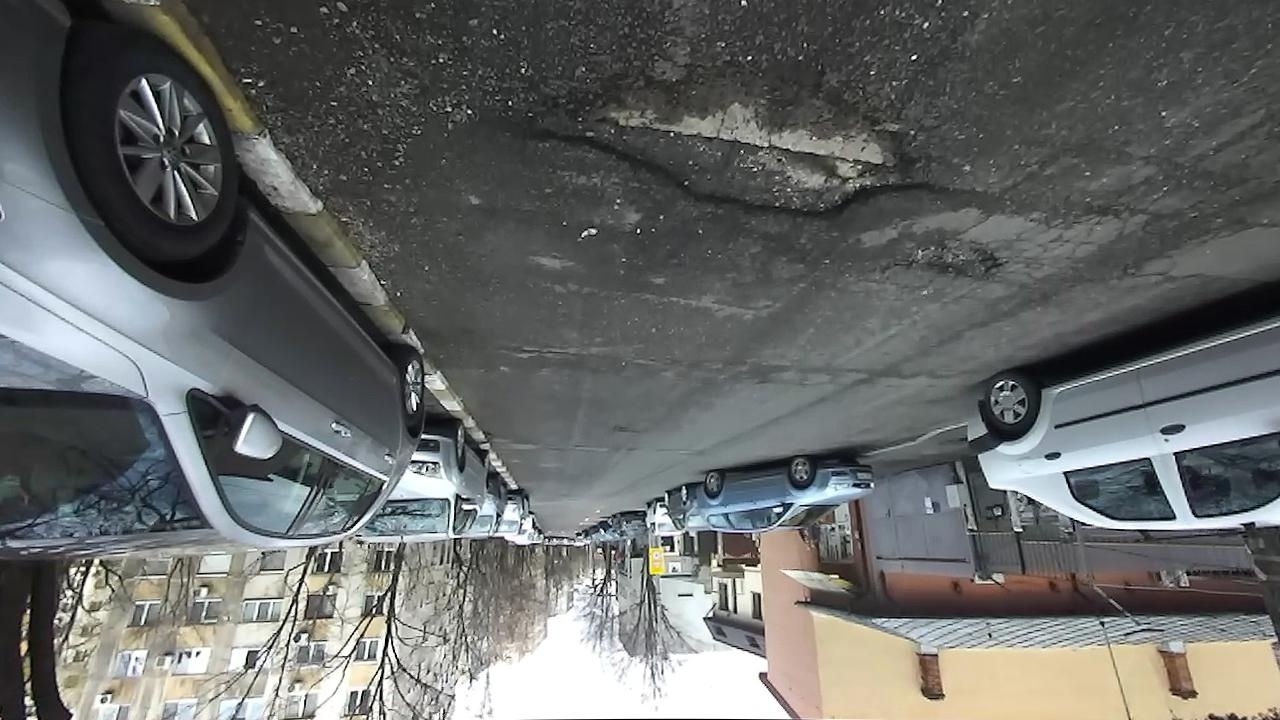pothole: (510, 54, 942, 228), (879, 235, 1016, 287), (498, 340, 583, 362)
